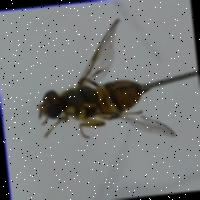Oriental-fruit-fly: (25, 16, 176, 164)
